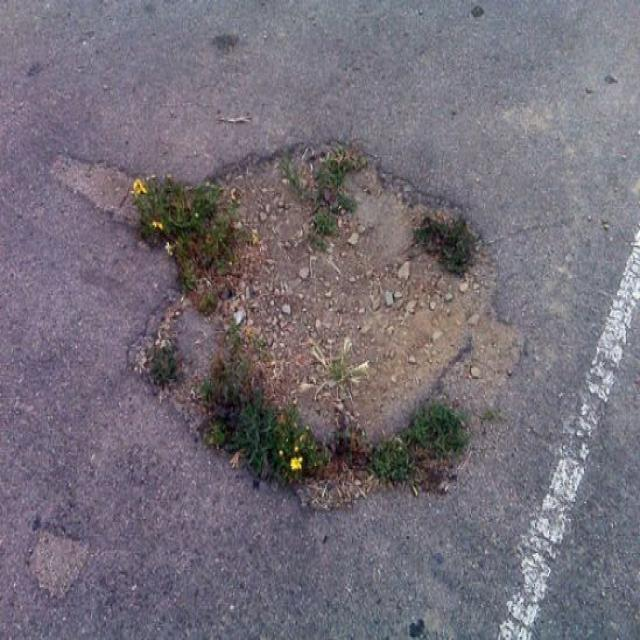Pothole: (49, 136, 527, 506)
